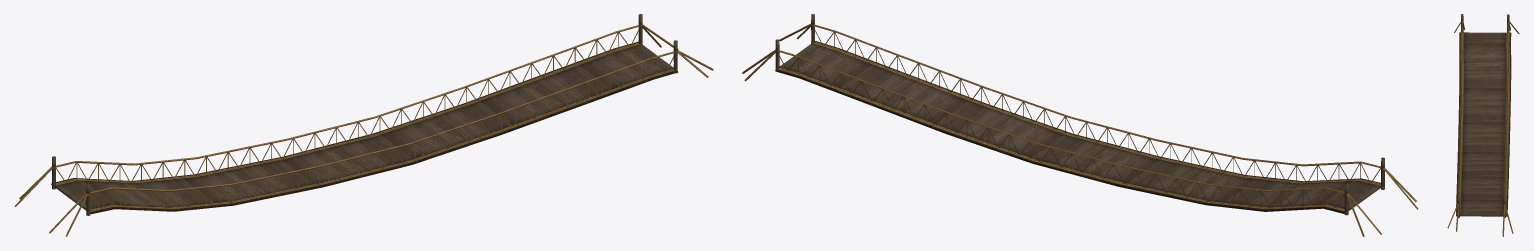
Rendered from environment_Building_luoxiaguan_001_a.FBX.
3 views of the same model, side by side, from view 1: azimuth 30°, elevation 25°; view 2: azimuth 150°, elevation 25°; view 3: azimuth 270°, elevation 25° (orthographic). The views are drawn at different scales.
Parts seen in each view (by area): view 1: environment_Building_luoxiaguan_001_a; view 2: environment_Building_luoxiaguan_001_a; view 3: environment_Building_luoxiaguan_001_a.
Part boxes in pixels (left/top/right/bottom): environment_Building_luoxiaguan_001_a: left=14, top=14, right=713, bottom=236; environment_Building_luoxiaguan_001_a: left=742, top=14, right=1418, bottom=236; environment_Building_luoxiaguan_001_a: left=1447, top=14, right=1519, bottom=236.
Size of the model in its own units: 3227 by 474 by 285.
